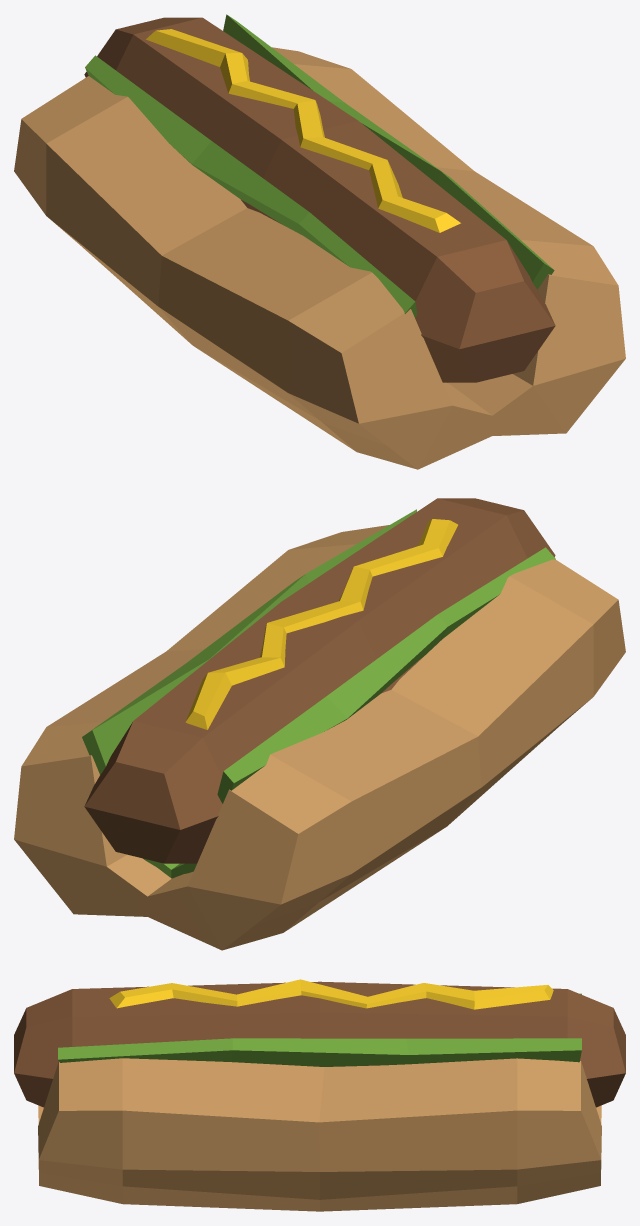
Rendered from hotdog.glb.
The picture shows the model from 3 angles, top to bottom: view 1: azimuth 30°, elevation 25°; view 2: azimuth 150°, elevation 25°; view 3: azimuth 270°, elevation 25°; orthographic projection. The views are drawn at different scales.
Visible parts, largest first — view 1: hotdog; view 2: hotdog; view 3: hotdog.
Boxes of the visible parts, x1=… form: hotdog: x1=14, y1=14, x2=625, y2=469; hotdog: x1=14, y1=498, x2=625, y2=950; hotdog: x1=14, y1=979, x2=625, y2=1211.
Bounding box in the file's own units: 0.1071 × 0.0736 × 0.2172.
Materials: 1 (1 with a texture image).
